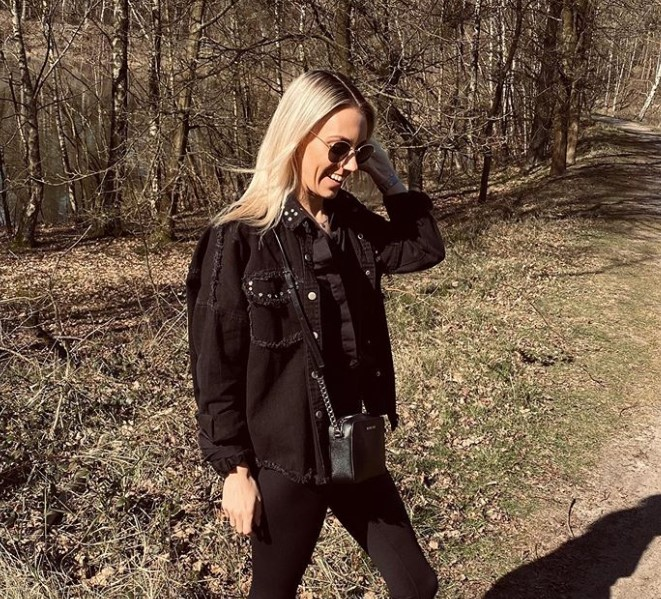face_no_mask: (272, 80, 376, 211)
